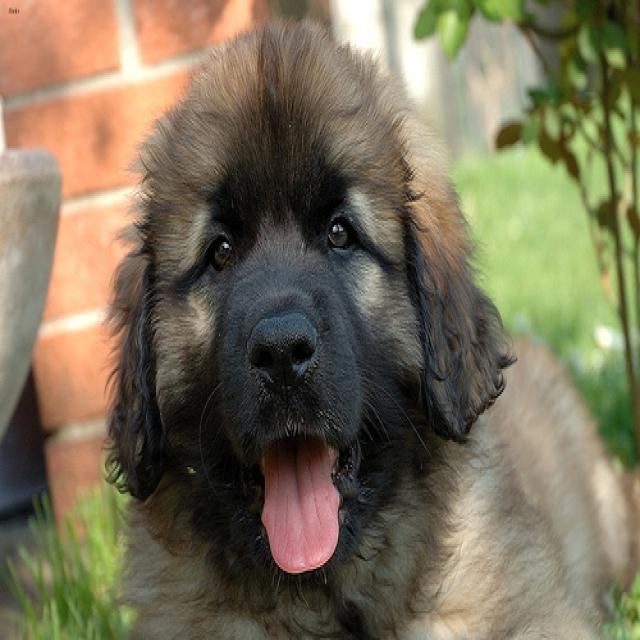dog-leonberger: (93, 2, 637, 636)
